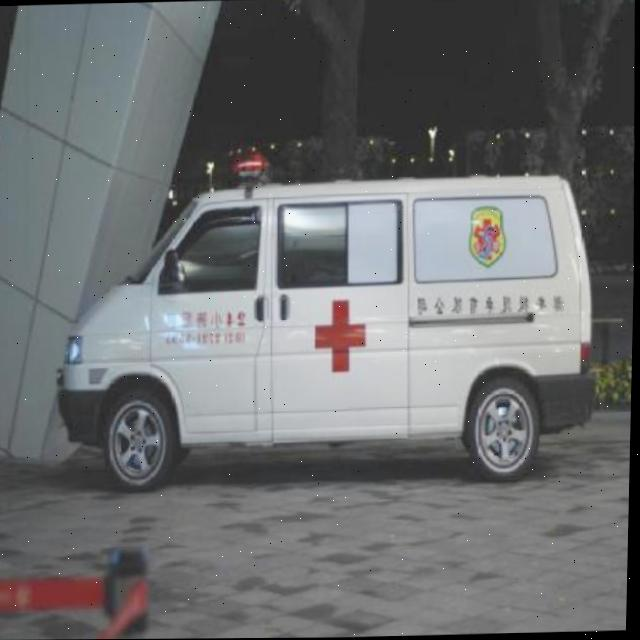emergency: (51, 139, 604, 493)
